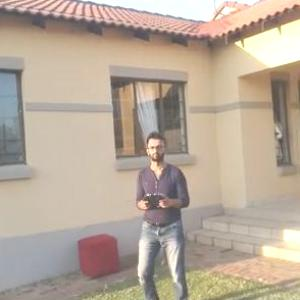follow: (117, 131, 187, 299)
